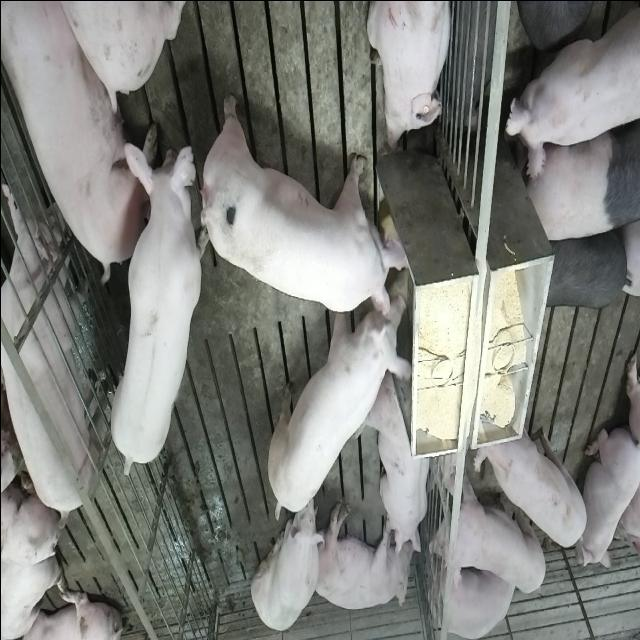Feeding: (198, 87, 408, 311), (266, 276, 414, 522)
Lateral_lying: (3, 3, 158, 282), (310, 499, 416, 611)
Sitting: (250, 488, 326, 634)
Standing: (0, 178, 107, 528), (109, 130, 208, 478), (500, 0, 639, 179), (474, 404, 588, 548), (518, 106, 638, 242), (531, 215, 631, 312)
Sternal_lying: (368, 0, 454, 150), (362, 372, 432, 556), (580, 418, 638, 568)
